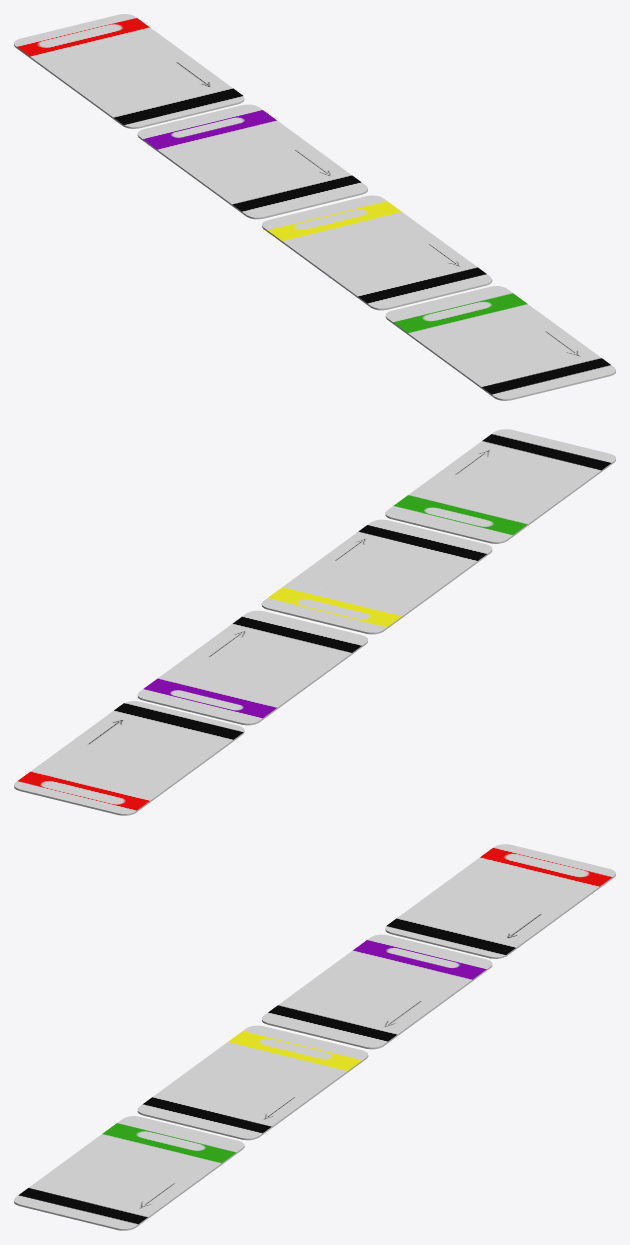
Rendered from Keycards.fbx.
The picture shows the model from 3 angles, top to bottom: view 1: azimuth 30°, elevation 25°; view 2: azimuth 150°, elevation 25°; view 3: azimuth 330°, elevation 25°; orthographic projection.
Parts seen in each view (by area): view 1: CardYellow, CardPurple, CardGreen, CardRed; view 2: CardRed, CardPurple, CardGreen, CardYellow; view 3: CardRed, CardPurple, CardGreen, CardYellow.
Boxes of the visible parts, bbox=[...] form: CardYellow: bbox=[262, 195, 492, 310]; CardPurple: bbox=[137, 104, 367, 219]; CardGreen: bbox=[385, 286, 615, 400]; CardRed: bbox=[14, 14, 244, 128]; CardRed: bbox=[14, 701, 244, 815]; CardPurple: bbox=[137, 610, 367, 725]; CardGreen: bbox=[385, 429, 615, 543]; CardYellow: bbox=[261, 519, 492, 634]; CardRed: bbox=[385, 844, 615, 958]; CardPurple: bbox=[262, 934, 492, 1049]; CardGreen: bbox=[14, 1116, 244, 1230]; CardYellow: bbox=[137, 1025, 368, 1140].
Size of the model in its own units: 4.58 by 0.0616 by 32.54.
